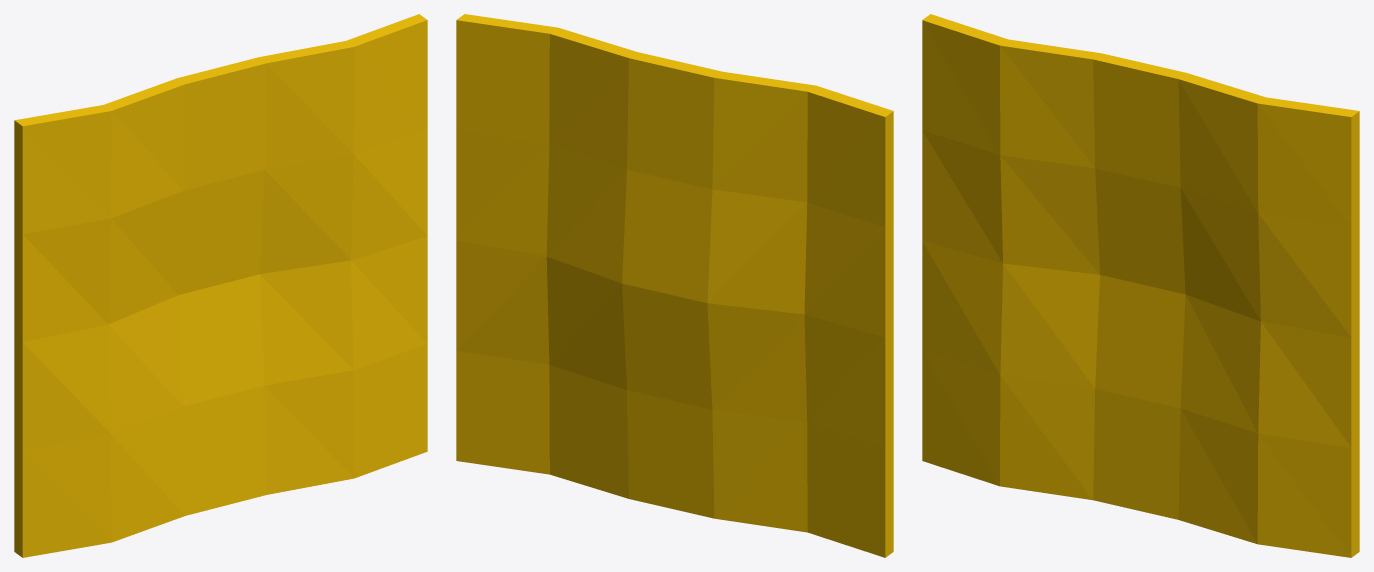
File: cheese.glb
3 renders of one model, left to right at view 1: azimuth 30°, elevation 25°; view 2: azimuth 150°, elevation 25°; view 3: azimuth 330°, elevation 25°, orthographic. The views are drawn at different scales.
Visible parts, largest first — view 1: buffer_0_mesh_0_prim5; view 2: buffer_0_mesh_0_prim5; view 3: buffer_0_mesh_0_prim5.
Part boxes in pixels (box(x1,y1,x2,y2)): buffer_0_mesh_0_prim5: box(14, 14, 427, 557); buffer_0_mesh_0_prim5: box(456, 14, 893, 557); buffer_0_mesh_0_prim5: box(922, 14, 1359, 557).
Size of the model in its own units: 10.7 by 10.7 by 1.12.
